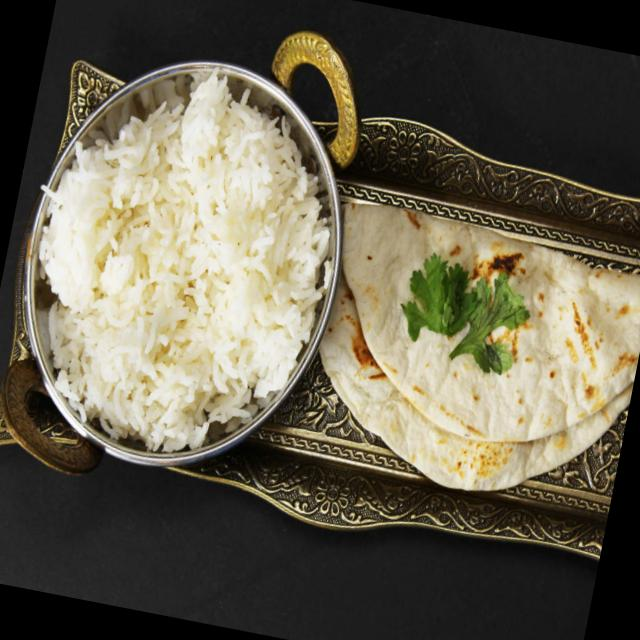rice: (45, 74, 331, 445)
roti: (321, 206, 640, 492)
